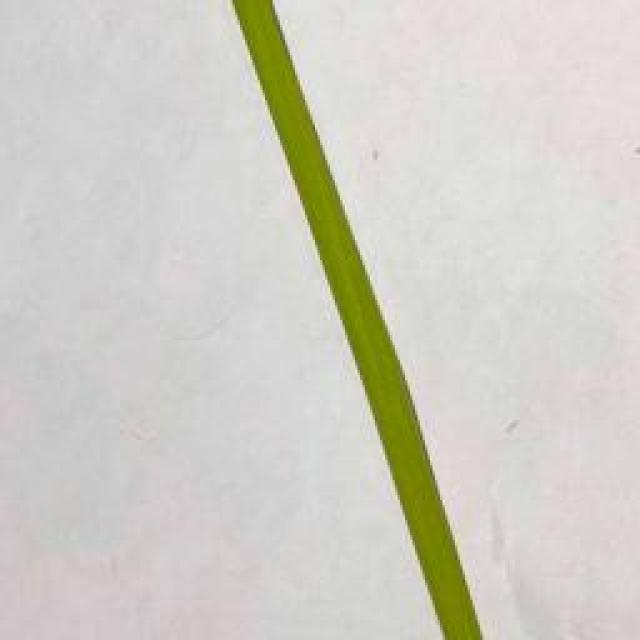Healthy-Plant: (230, 0, 487, 640)
